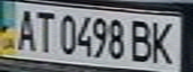0: (54, 10, 78, 55)
4: (75, 12, 93, 57)
8: (106, 16, 130, 61)
9: (90, 15, 109, 58)
A: (9, 6, 39, 52)
B: (127, 17, 157, 63)
K: (145, 18, 181, 65)
T: (30, 7, 57, 53)
